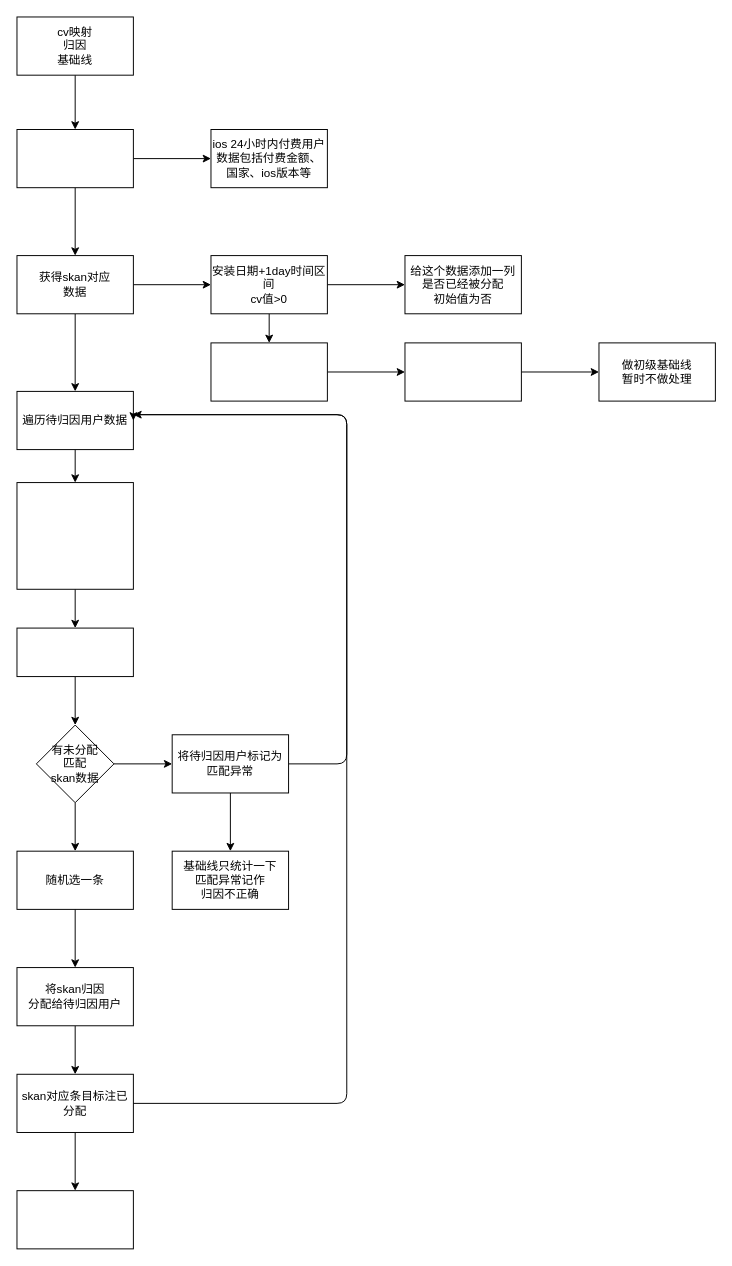
The diagram is 732 pixels wide and 1266 high, and some of its shapes have lost their labels. Here are the shapes that lost their labels. From the top down, the centre of each, then its label:
(x=74, y=158): 获得数数的 待归因用户数据
(x=268, y=371): 这个可能要进一步处理
(x=462, y=371): 有一些用户是可以通过network 匹配到media的
(x=74, y=535): 匹配时间 skan的时间戳介于安装时间（数数中用户注册时间）+ 24hours ~48hours之间
(x=74, y=652): cv值匹配
(x=74, y=1219): 结束后test
